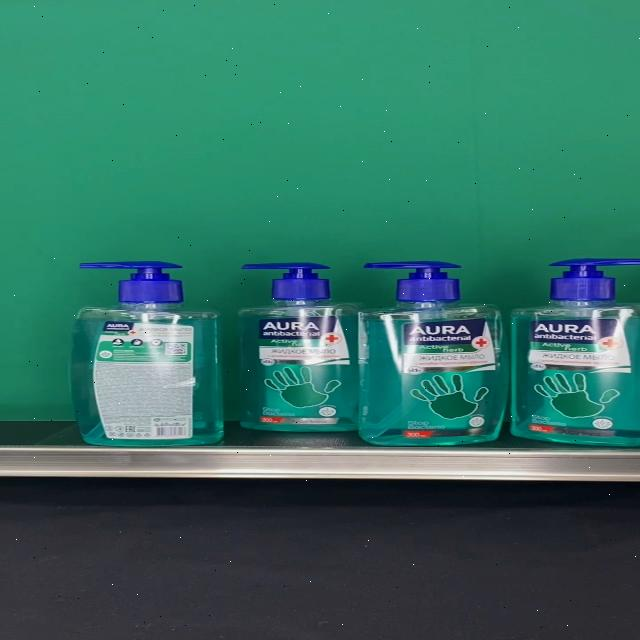Bottle: (70, 260, 225, 446), (358, 260, 508, 446), (509, 257, 640, 446), (238, 262, 358, 432)
Cap: (79, 259, 183, 301), (361, 260, 462, 300), (550, 257, 640, 300), (241, 262, 331, 298)
